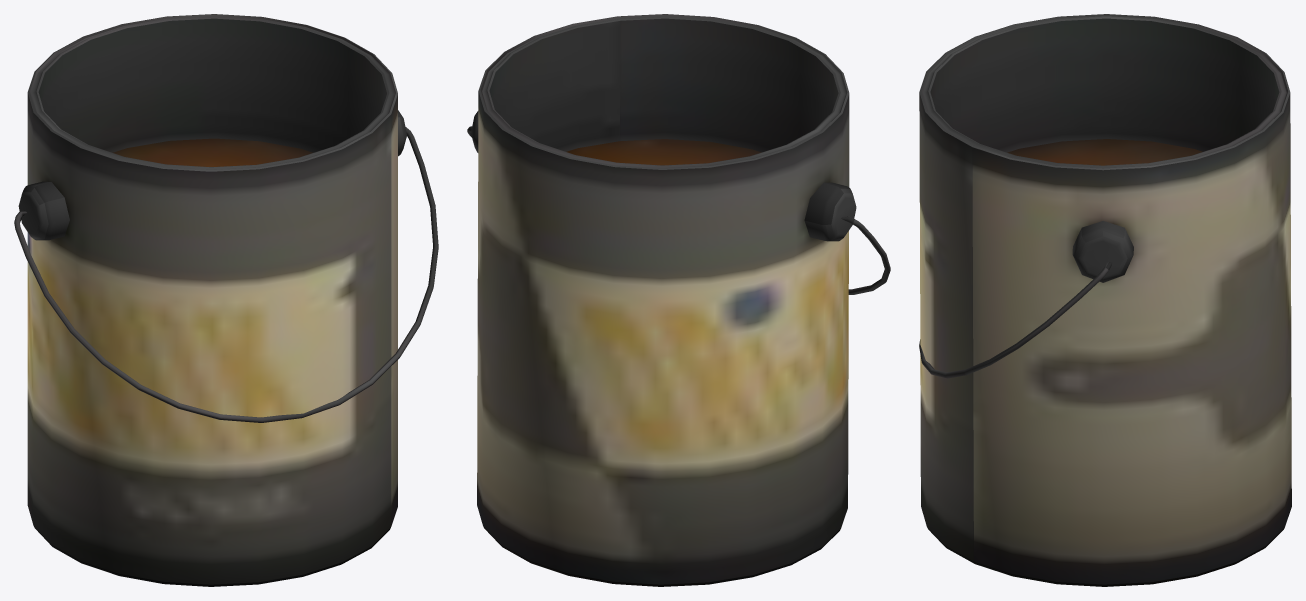
3 renders of one model, left to right at view 1: azimuth 30°, elevation 25°; view 2: azimuth 150°, elevation 25°; view 3: azimuth 270°, elevation 25°, orthographic.
Parts seen in each view (by area): view 1: body0_model0_lod0_mesh0; view 2: body0_model0_lod0_mesh0; view 3: body0_model0_lod0_mesh0.
Part boxes in pixels (box(x1,y1,x2,y2)): body0_model0_lod0_mesh0: box(14, 14, 438, 586); body0_model0_lod0_mesh0: box(467, 14, 890, 586); body0_model0_lod0_mesh0: box(919, 14, 1291, 586).
Bounding box in the file's own units: 21.59 × 21.82 × 17.55.
1 material, 1 textured.
